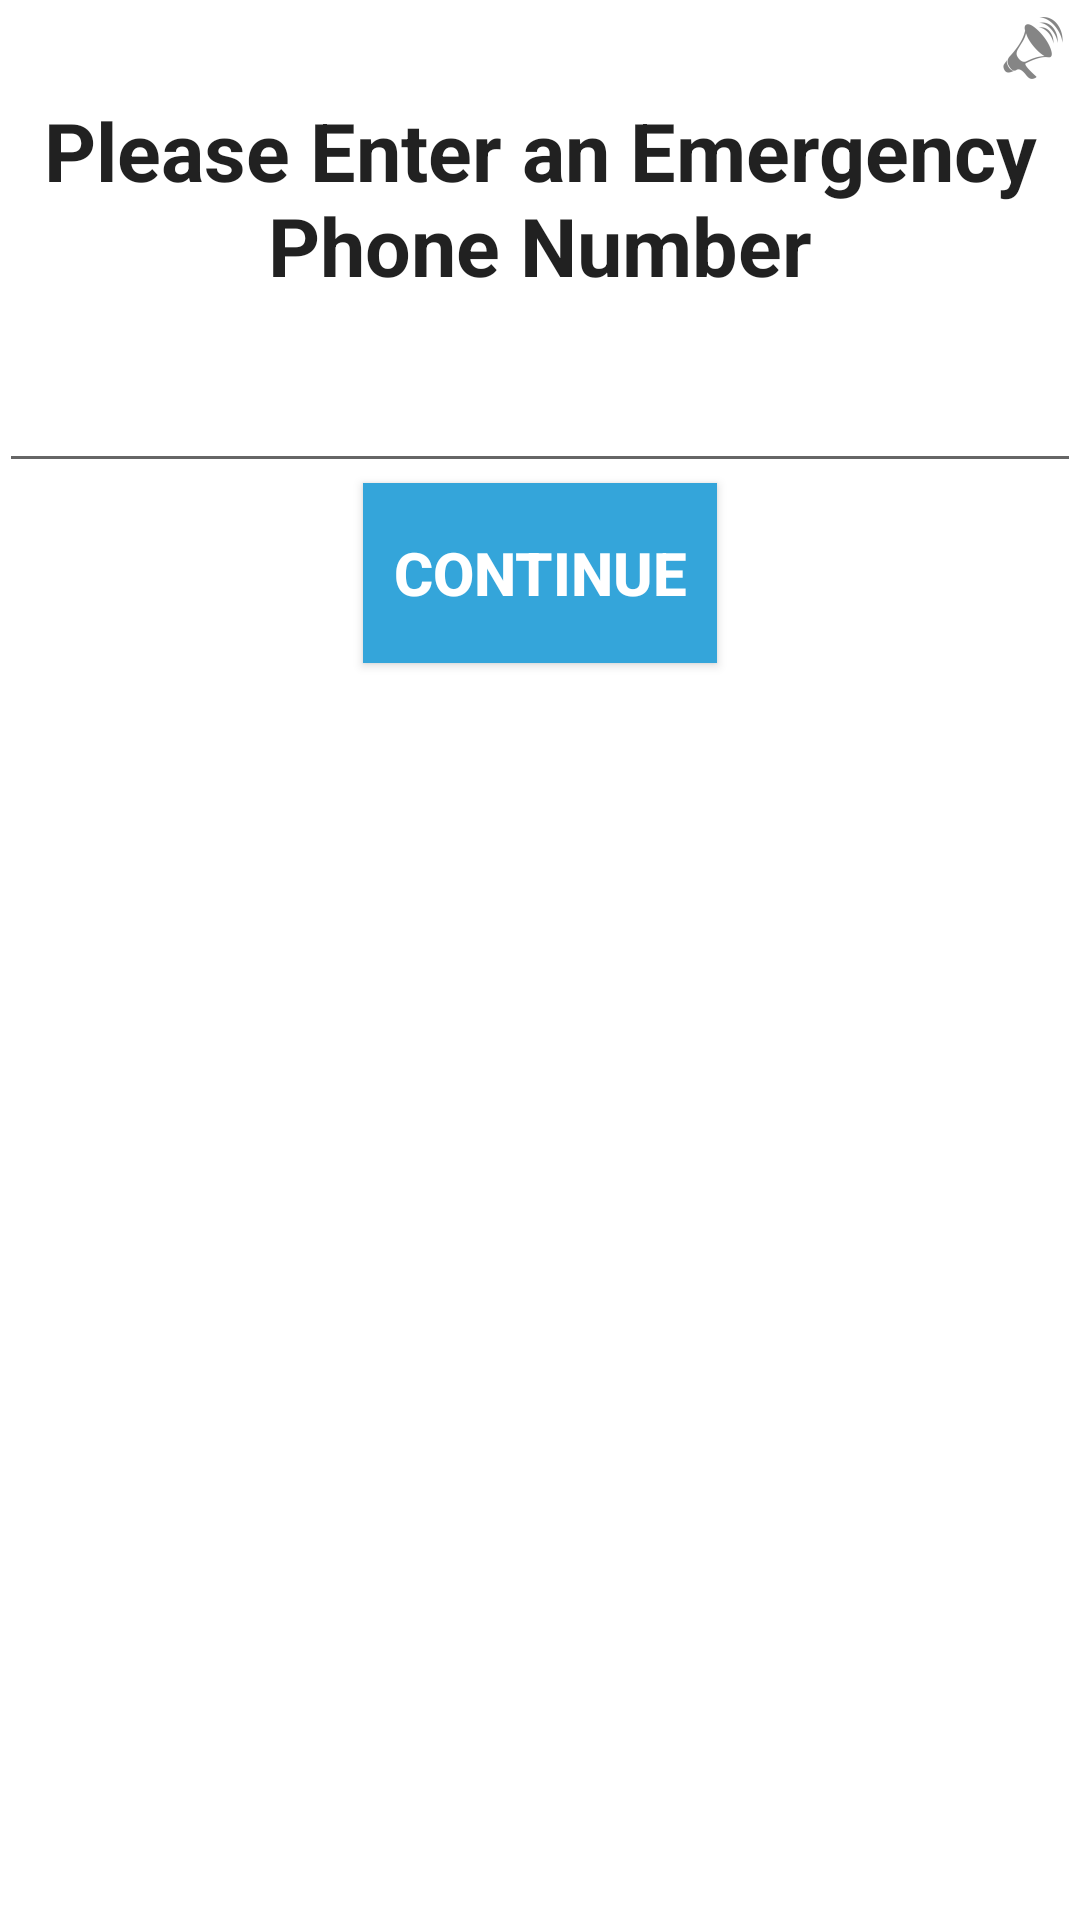

Named icons in this screenshot (1080px x 1920px) and their bounding boxes, {"left": x1, "top": y1, "right": x2, "bottom": y2}:
speaker: {"left": 1003, "top": 17, "right": 1063, "bottom": 79}
